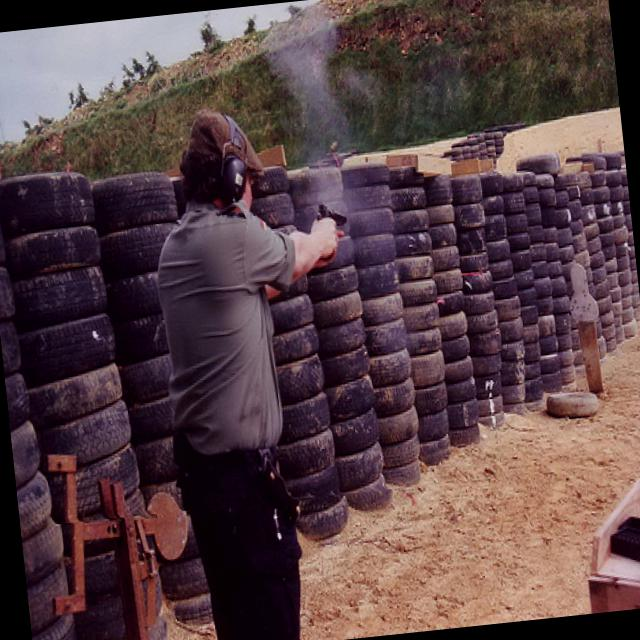handgun: (302, 189, 350, 261)
